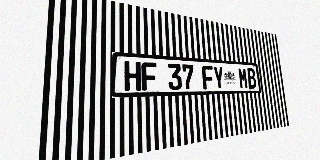3: (168, 63, 182, 90)
7: (181, 64, 195, 90)
B: (246, 68, 257, 89)
F: (141, 62, 157, 91), (202, 65, 214, 89)
H: (124, 61, 141, 91)
M: (238, 67, 248, 89)
Y: (213, 66, 225, 89)
